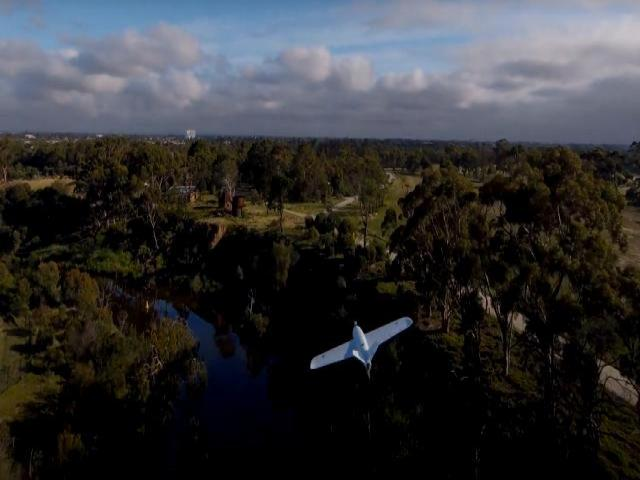iha: (305, 312, 419, 374)
